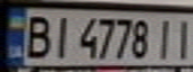4: (75, 14, 100, 58)
7: (93, 15, 118, 60), (115, 16, 133, 60)
8: (130, 16, 154, 60)
B: (21, 11, 54, 60)
I: (48, 12, 75, 59), (151, 16, 178, 61), (172, 16, 193, 60)
